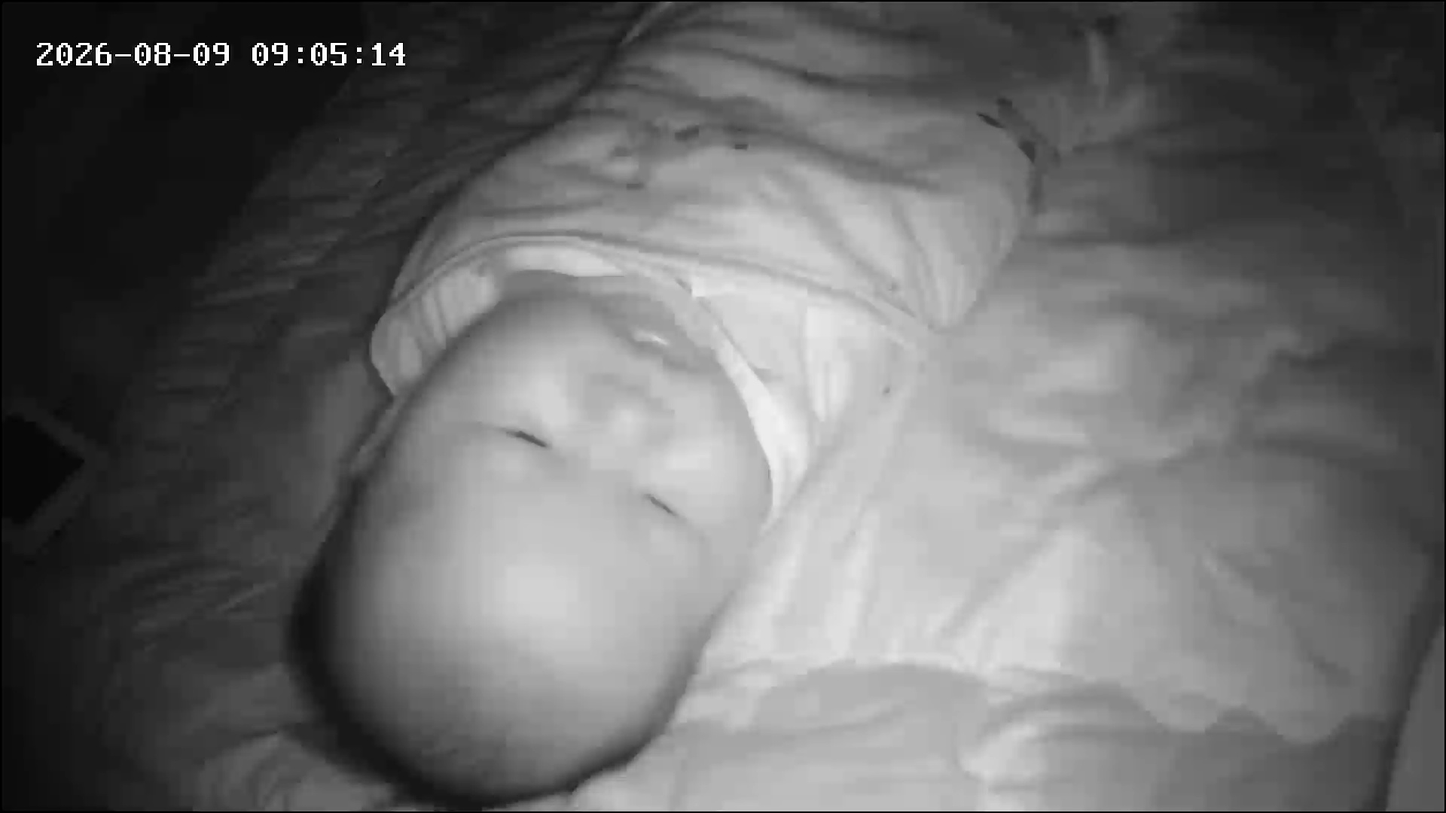baby: (281, 0, 1055, 806)
baby_face: (283, 283, 801, 805)
